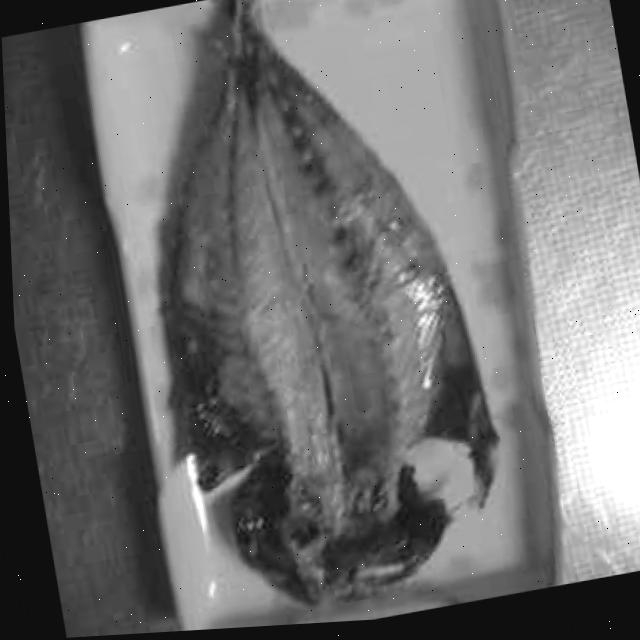熟制海鲜: (80, 0, 527, 636)
